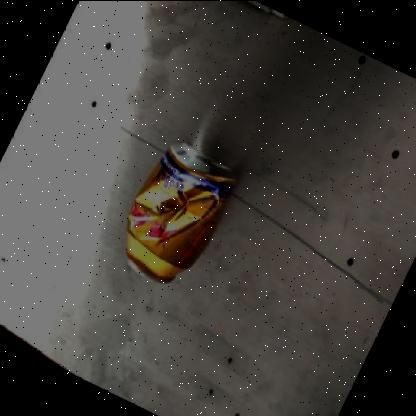Can: (126, 141, 236, 281)
